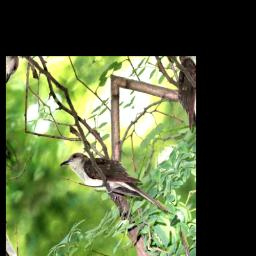Cuckoo: (60, 116, 173, 256)
